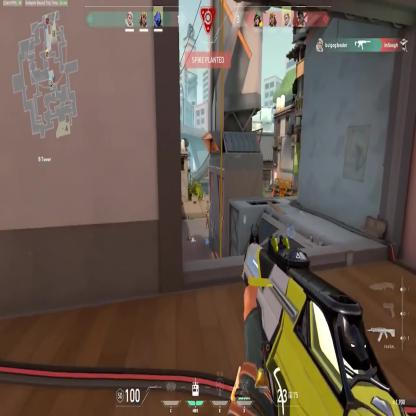enemy: (206, 212, 209, 228)
enemy_head: (206, 212, 208, 215)
